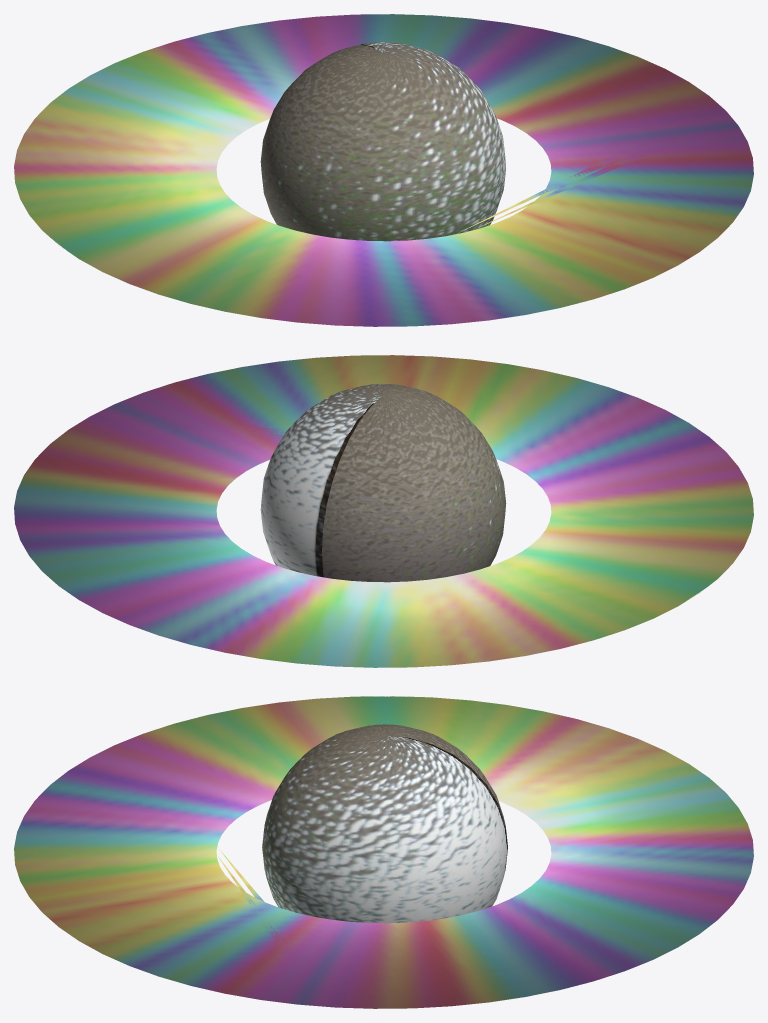
Rendered from gargantuaCentro.obj.
The picture shows the model from 3 angles, top to bottom: view 1: azimuth 30°, elevation 25°; view 2: azimuth 150°, elevation 25°; view 3: azimuth 270°, elevation 25°; orthographic projection.
Visible parts, largest first — view 1: Disk_GArgantua:Cylinder001, Sphere_Gargantua:Sphere002; view 2: Disk_GArgantua:Cylinder001, Sphere_Gargantua:Sphere002; view 3: Disk_GArgantua:Cylinder001, Sphere_Gargantua:Sphere002.
Boxes of the visible parts, x1=… form: Disk_GArgantua:Cylinder001: x1=14, y1=14, x2=753, y2=326; Sphere_Gargantua:Sphere002: x1=260, y1=42, x2=505, y2=241; Disk_GArgantua:Cylinder001: x1=14, y1=355, x2=753, y2=667; Sphere_Gargantua:Sphere002: x1=260, y1=384, x2=506, y2=582; Disk_GArgantua:Cylinder001: x1=14, y1=696, x2=753, y2=1008; Sphere_Gargantua:Sphere002: x1=262, y1=724, x2=507, y2=923.
Size of the model in its own units: 10.9 by 3.62 by 10.9.
